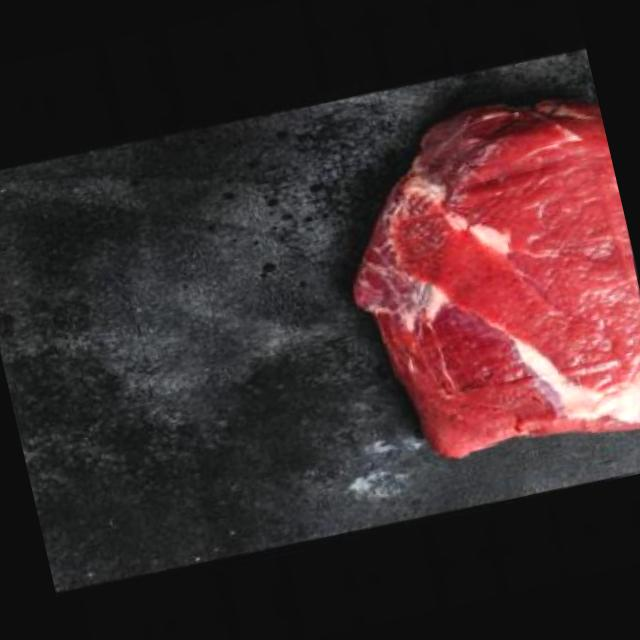beef: (304, 74, 640, 502)
